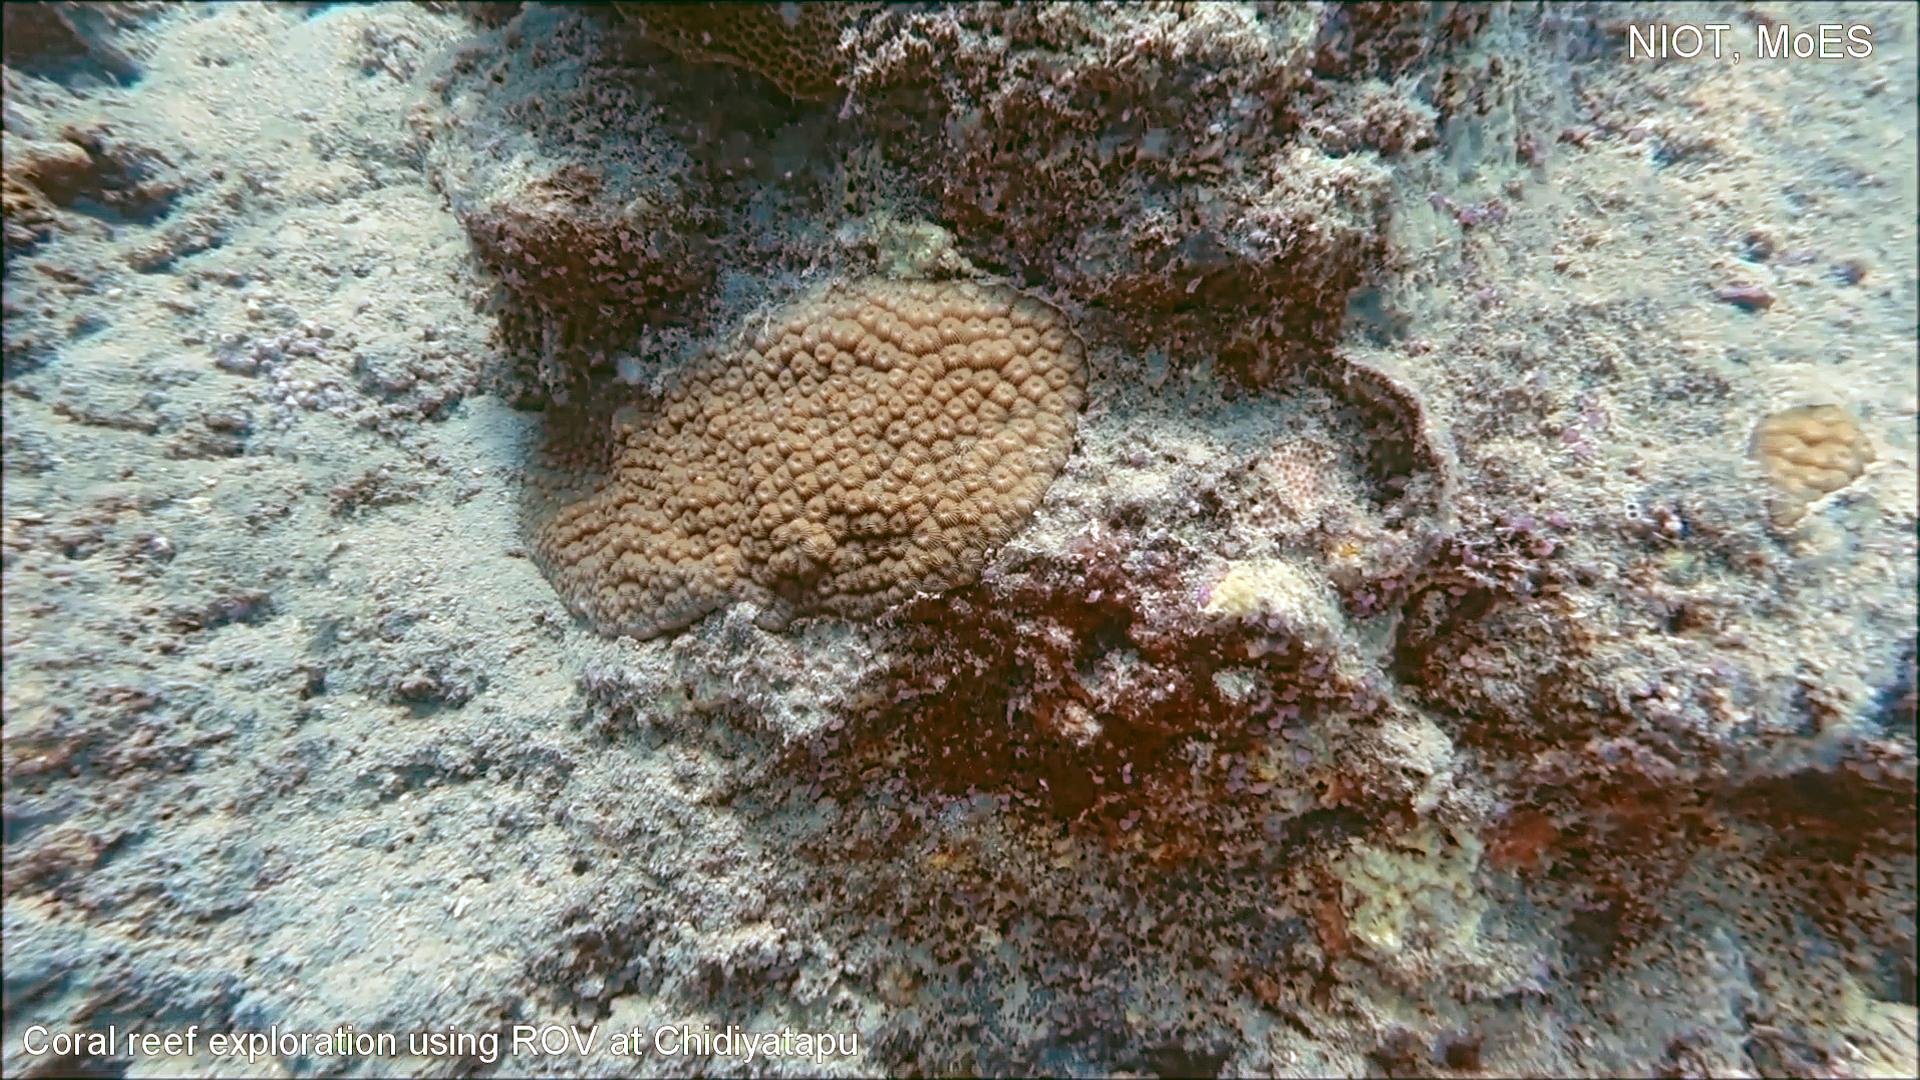Montastraea: (524, 265, 1096, 651), (1738, 393, 1875, 545)
